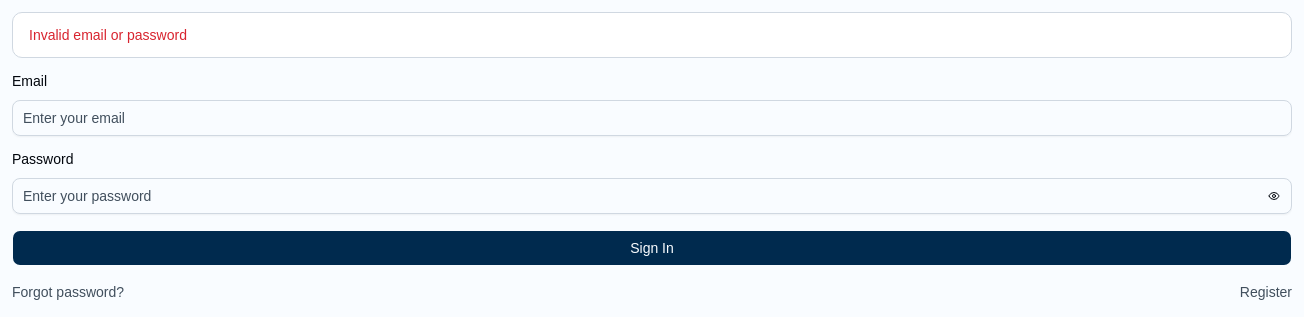
Test case: LoginPage › renders invalid credentials and clears the alert when a field changes
Check: the message reads "Invalid email or password", box 29,27 -> 187,43
Type "patient@example.com" into the field labelled "Email".
click(652, 118); type("patient@example.com")  # box 12,100 -> 1292,136
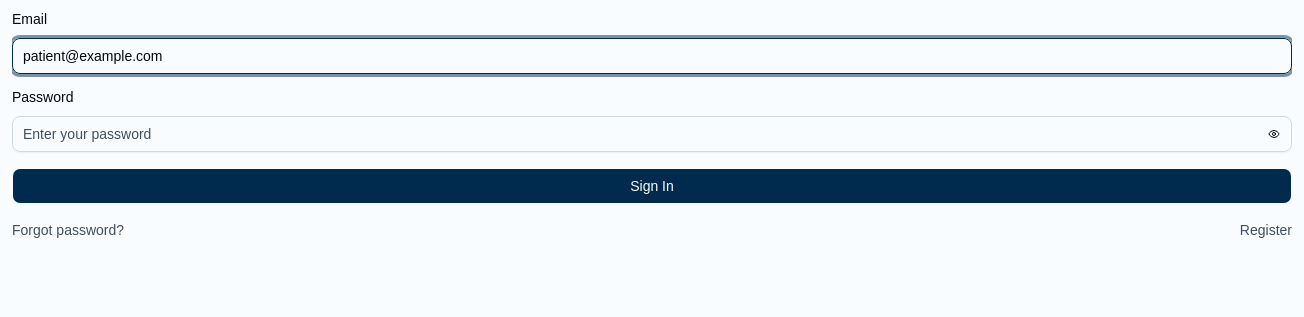
Check: the message "Invalid email or password" is gone
